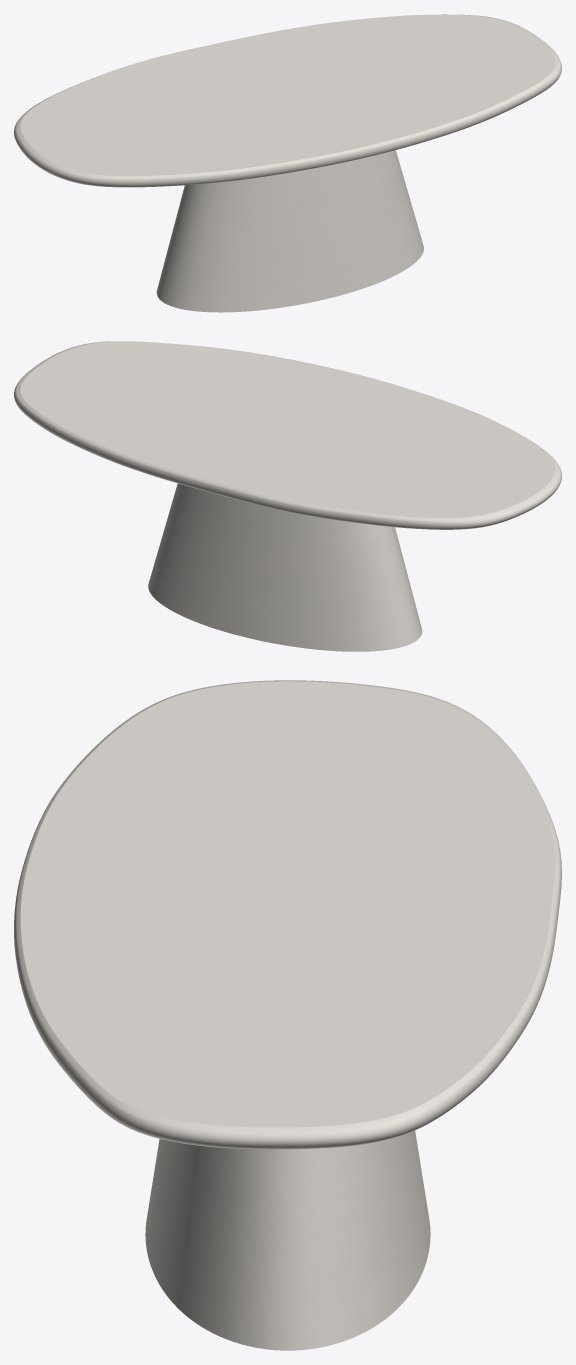
The model's file is pearlwhite_danish_round_eqone.glb.
The picture shows the model from 3 angles, top to bottom: view 1: azimuth 30°, elevation 25°; view 2: azimuth 150°, elevation 25°; view 3: azimuth 270°, elevation 25°; orthographic projection. The views are drawn at different scales.
Visible parts, largest first — view 1: round_danish, eqone; view 2: round_danish, eqone; view 3: round_danish, eqone.
Part boxes in pixels (x1,y1,x2,y2): round_danish: (14, 14, 561, 187); eqone: (156, 150, 423, 312); round_danish: (14, 341, 561, 529); eqone: (148, 483, 422, 651); round_danish: (14, 680, 561, 1149); eqone: (145, 1130, 430, 1350).
Bounding box in the file's own units: 7.5 × 2.5 × 3.8.
Materials: 1 (1 with a texture image).
